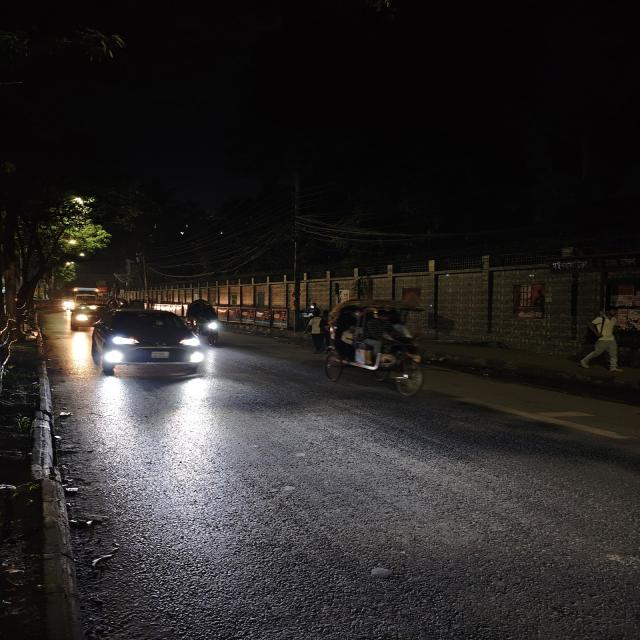car: (83, 308, 210, 382), (59, 303, 108, 332)
pedestrian: (567, 313, 635, 373), (302, 309, 330, 353)
rickshaw: (319, 300, 430, 399), (184, 299, 227, 341)
truck: (63, 289, 105, 311)
